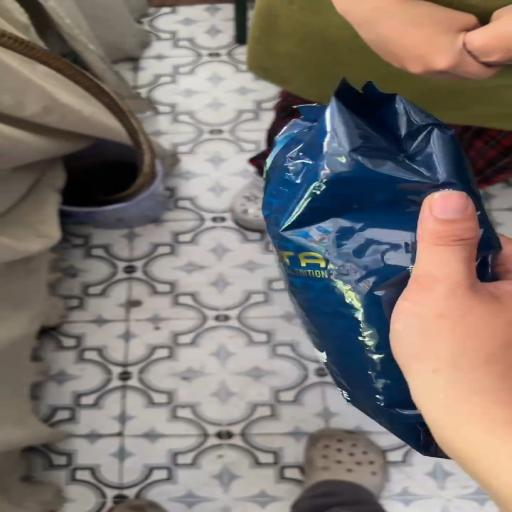cafe_hat: (262, 80, 500, 457)
